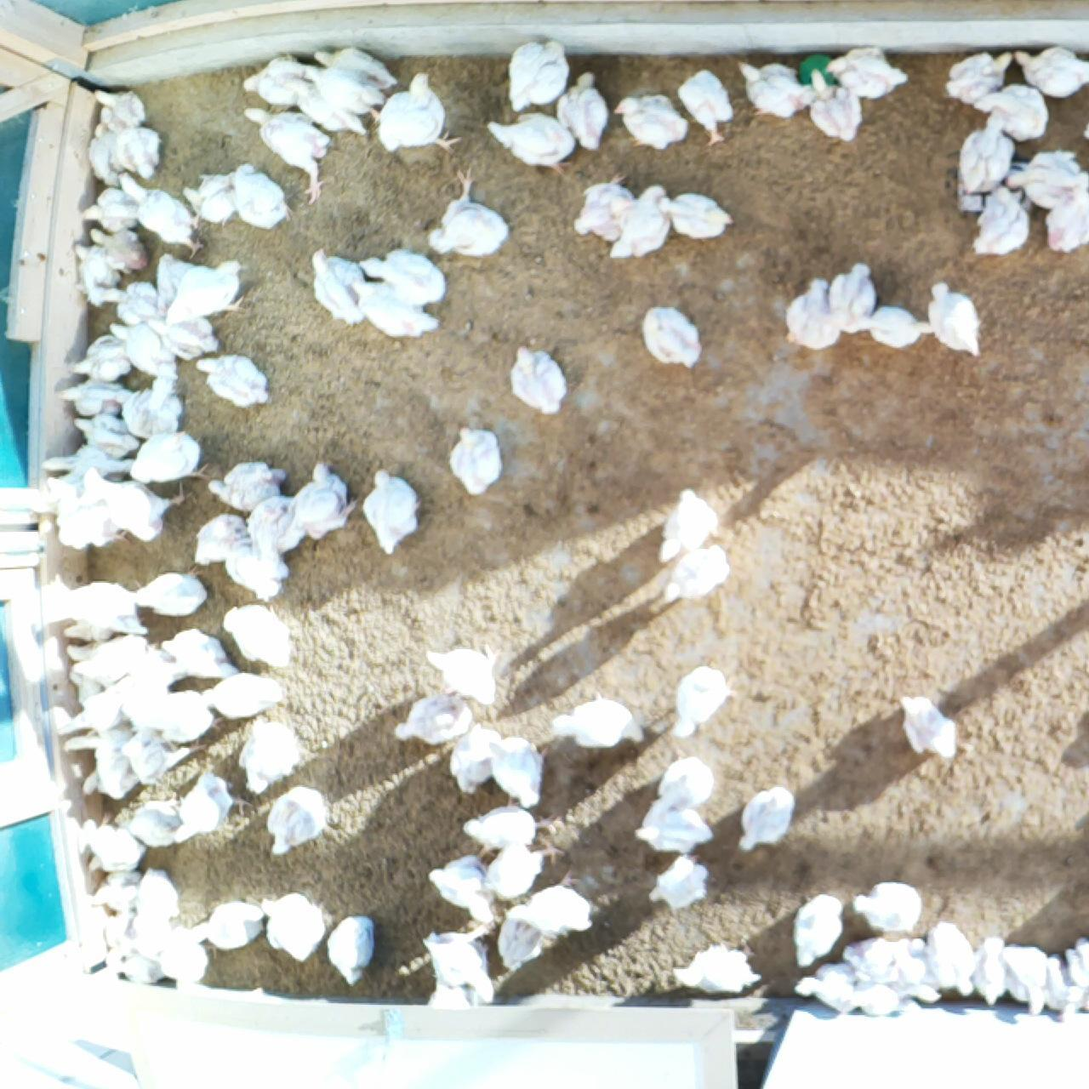chicken: (238, 104, 338, 207), (80, 466, 199, 545), (30, 474, 141, 551), (426, 163, 515, 259), (373, 69, 467, 157), (118, 171, 209, 261), (481, 109, 581, 181), (172, 766, 255, 846), (234, 712, 313, 796), (421, 848, 507, 925), (350, 277, 444, 345), (420, 927, 505, 1002), (356, 465, 424, 556), (61, 579, 155, 644), (509, 871, 597, 940), (357, 245, 451, 309), (671, 940, 769, 1000), (951, 110, 1017, 199), (291, 460, 363, 541), (163, 261, 254, 325), (243, 491, 315, 570), (551, 693, 650, 750), (1001, 145, 1089, 209), (733, 55, 818, 121), (125, 429, 220, 488), (457, 800, 564, 852), (657, 540, 735, 611), (606, 183, 674, 264), (613, 87, 694, 155), (783, 272, 848, 355), (393, 688, 487, 745), (674, 68, 739, 150), (421, 643, 504, 707), (263, 784, 331, 862), (925, 275, 987, 360), (485, 835, 568, 898), (972, 83, 1056, 145), (221, 600, 296, 669), (655, 487, 723, 563), (72, 635, 171, 687), (119, 730, 209, 787), (257, 892, 331, 961), (507, 37, 574, 113), (896, 690, 963, 766), (309, 246, 371, 328), (106, 317, 183, 383), (825, 45, 914, 102), (304, 63, 391, 121), (119, 370, 189, 442), (554, 70, 614, 154), (487, 735, 555, 809), (734, 782, 801, 857), (657, 187, 742, 246), (40, 441, 142, 490), (647, 755, 721, 822), (448, 721, 512, 798), (669, 663, 733, 740), (207, 458, 298, 512), (290, 80, 373, 139), (790, 890, 848, 973), (571, 169, 636, 243), (227, 164, 296, 233), (77, 812, 150, 877), (508, 344, 573, 417), (925, 918, 982, 1001), (192, 353, 273, 411), (640, 302, 707, 372), (447, 422, 509, 497), (324, 913, 384, 990), (830, 259, 887, 340), (239, 54, 321, 110), (1010, 43, 1089, 100), (222, 541, 294, 603), (851, 878, 929, 935), (971, 185, 1031, 259), (134, 565, 216, 619), (631, 801, 717, 852), (943, 48, 1018, 106), (807, 65, 861, 143), (181, 170, 253, 228), (159, 627, 239, 679), (201, 672, 291, 718), (192, 897, 268, 951), (1002, 941, 1056, 1016), (316, 49, 402, 96), (792, 960, 862, 1016), (62, 640, 123, 704), (838, 935, 908, 990), (646, 857, 714, 913), (144, 315, 221, 364), (131, 865, 184, 936), (1036, 948, 1089, 1019), (66, 409, 142, 458), (67, 332, 138, 384), (897, 936, 949, 1007), (125, 792, 187, 851), (970, 933, 1018, 1009), (75, 185, 149, 234), (190, 511, 253, 568), (69, 240, 125, 304), (867, 302, 935, 354), (1040, 184, 1089, 256), (88, 865, 150, 921), (159, 923, 212, 987), (61, 684, 130, 733), (103, 277, 168, 328), (111, 120, 165, 180), (87, 226, 152, 275), (153, 249, 198, 319), (60, 718, 140, 757), (93, 915, 145, 975), (160, 690, 217, 743), (498, 915, 549, 974), (82, 751, 141, 801), (127, 646, 193, 690), (58, 377, 131, 415), (844, 983, 920, 1019), (92, 85, 155, 128), (119, 677, 174, 726), (132, 914, 178, 965), (90, 123, 121, 189), (1066, 928, 1089, 996), (423, 983, 483, 1006)
